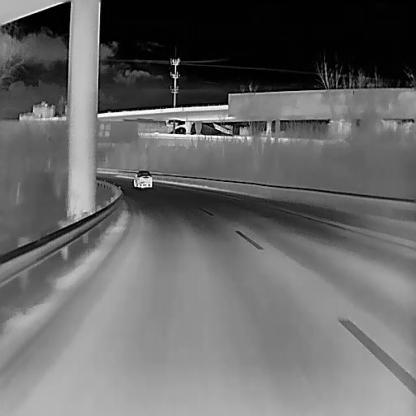car: (134, 170, 152, 187)
